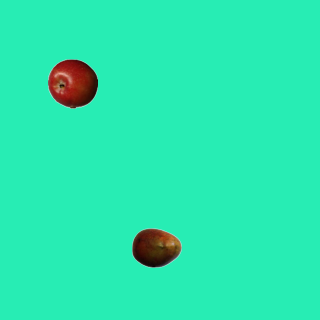Apple Braeburn: (47, 58, 97, 108)
Mango Red: (131, 222, 181, 272)
